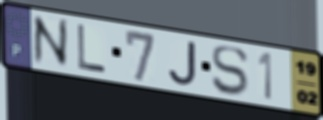1: (256, 52, 274, 104)
7: (123, 27, 158, 85)
J: (166, 40, 199, 88)
L: (76, 22, 108, 76)
N: (30, 13, 72, 69)
S: (209, 45, 251, 97)
